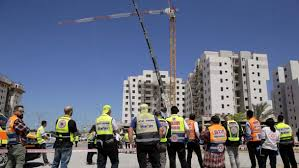vest: (134, 116, 160, 143), (7, 118, 27, 146), (168, 115, 187, 144), (96, 116, 117, 141), (58, 116, 76, 143), (210, 126, 228, 147), (279, 125, 297, 145), (249, 119, 262, 142), (228, 121, 241, 142), (35, 129, 47, 144)
